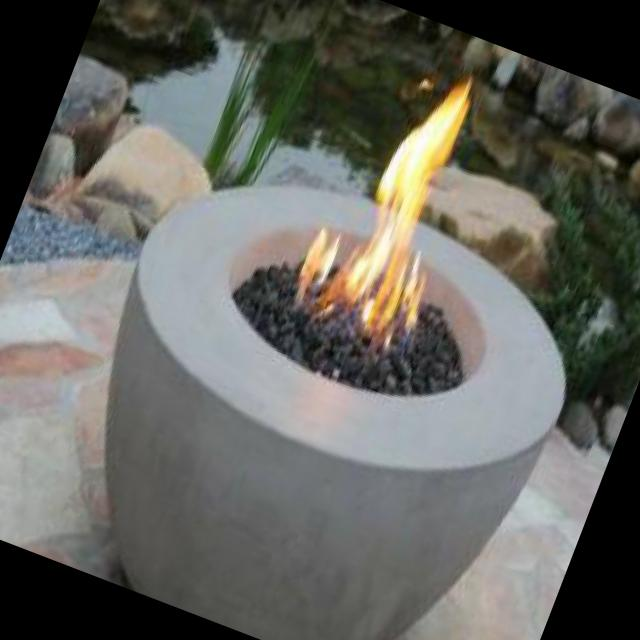fire: (277, 32, 517, 371)
